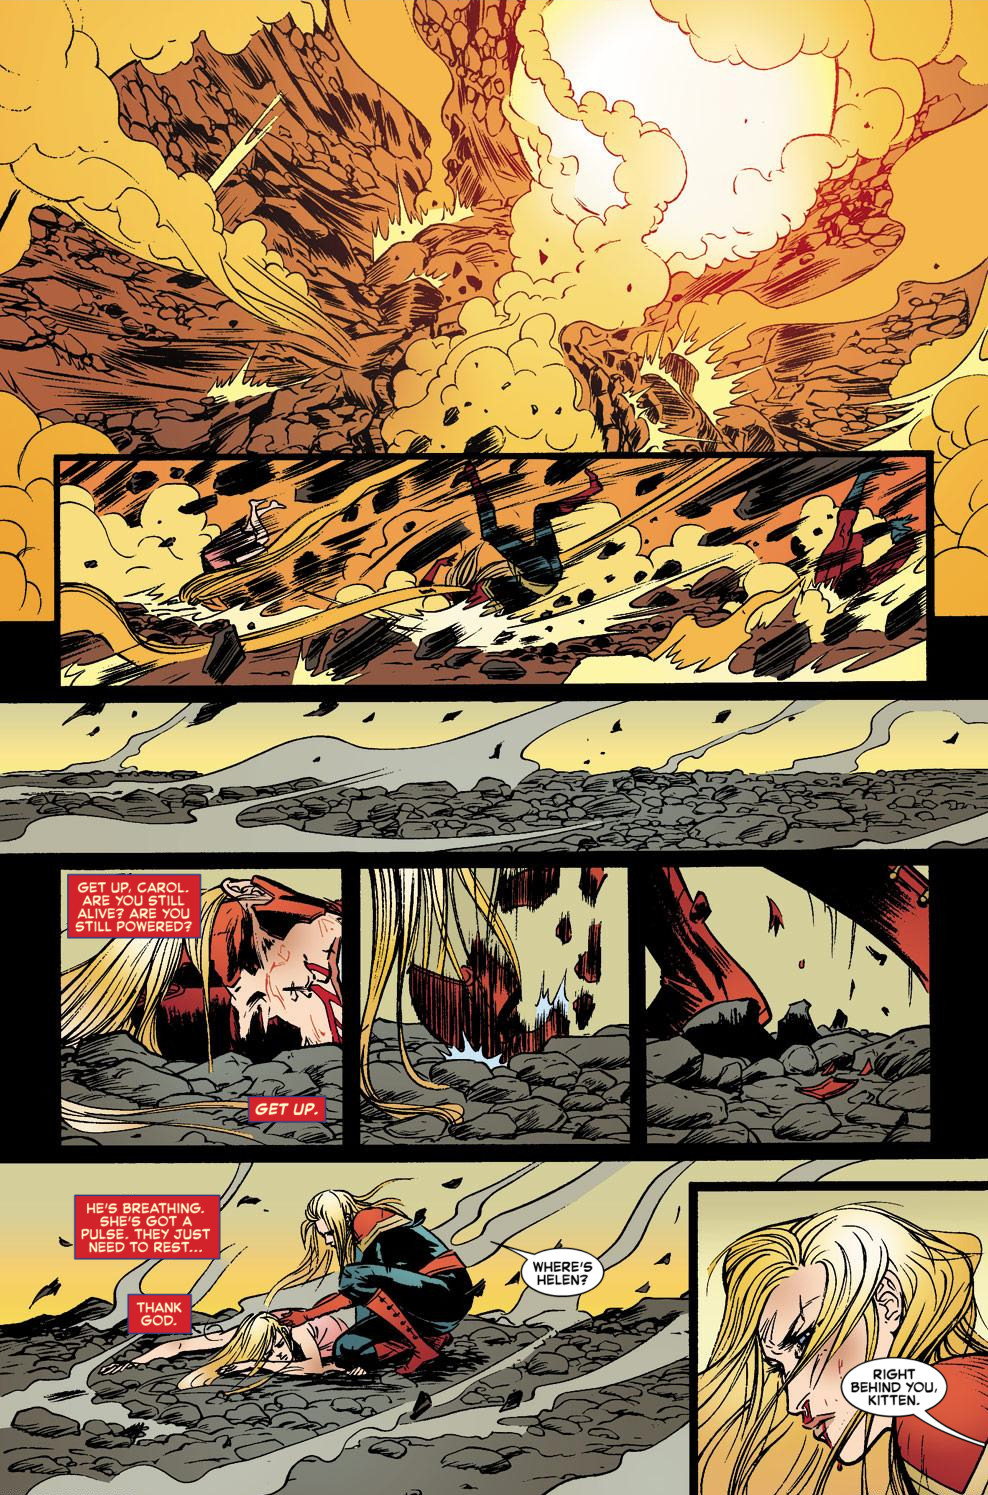Baloon: (838, 1356, 988, 1446), (74, 1193, 219, 1261), (69, 876, 206, 943), (500, 1238, 604, 1300), (131, 1295, 192, 1334), (249, 1095, 322, 1120)
Vignetta: (4, 1, 988, 620), (4, 1163, 988, 1491), (56, 452, 931, 686), (4, 705, 988, 850), (688, 1179, 982, 1495), (54, 863, 342, 1146), (647, 863, 928, 1146), (356, 868, 624, 1147)
